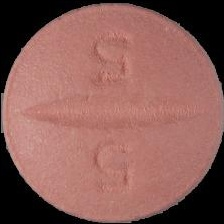68788-6775: (0, 0, 224, 224)
